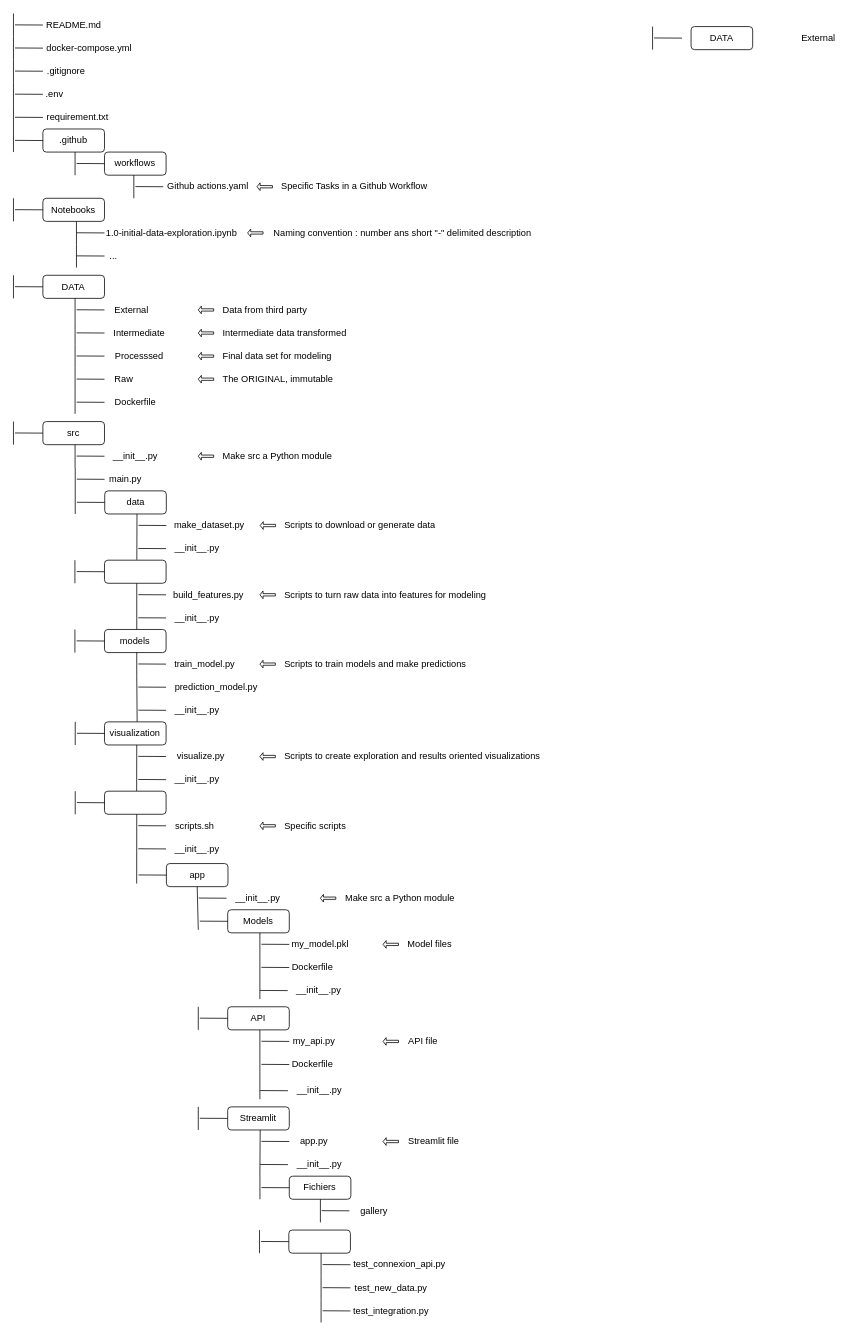
Image size: 859x1337. Some labels were removed from this diagram. Here are the shapes that lost their labels. From the top down, the box of each, then its label:
(104, 559, 166, 583): features
(104, 790, 166, 814): scripts
(288, 1229, 350, 1253): Tests
